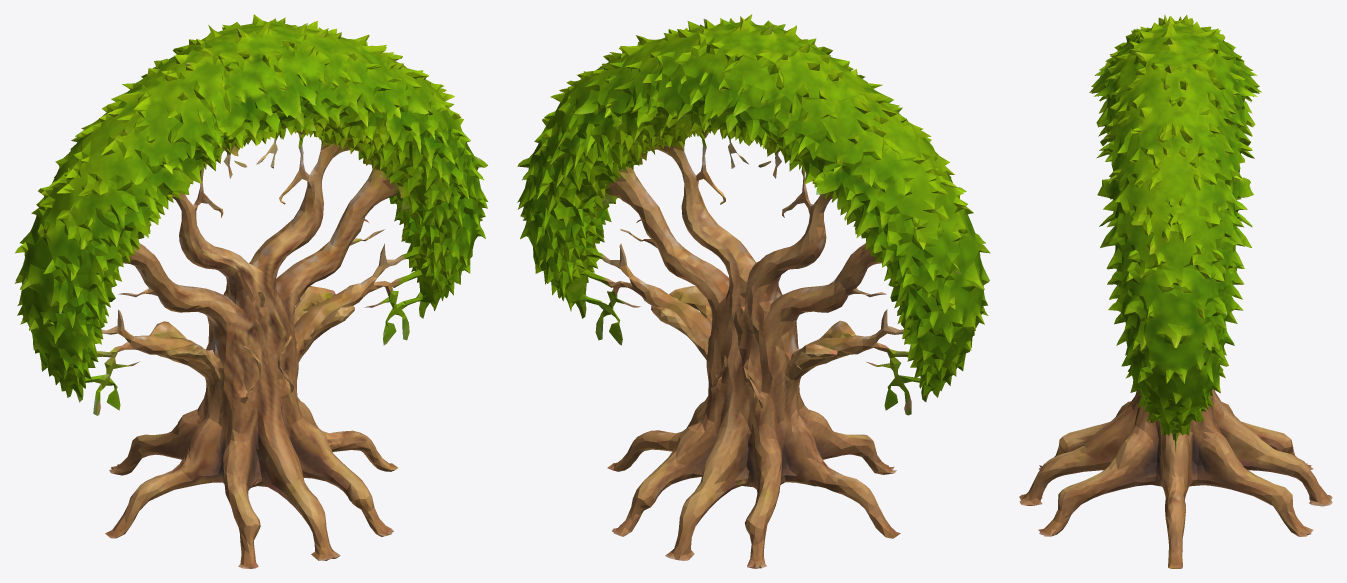
The picture shows the model from 3 angles, left to right: view 1: azimuth 30°, elevation 25°; view 2: azimuth 150°, elevation 25°; view 3: azimuth 270°, elevation 25°; orthographic projection.
Parts seen in each view (by area): view 1: RootArmor; view 2: RootArmor; view 3: RootArmor.
Boxes of the visible parts, bbox=[...] form: RootArmor: bbox=[15, 14, 487, 568]; RootArmor: bbox=[517, 14, 990, 568]; RootArmor: bbox=[1019, 15, 1332, 568].
Bounding box in the file's own units: 1.9 × 1.89 × 1.13.
1 material, 1 textured.
